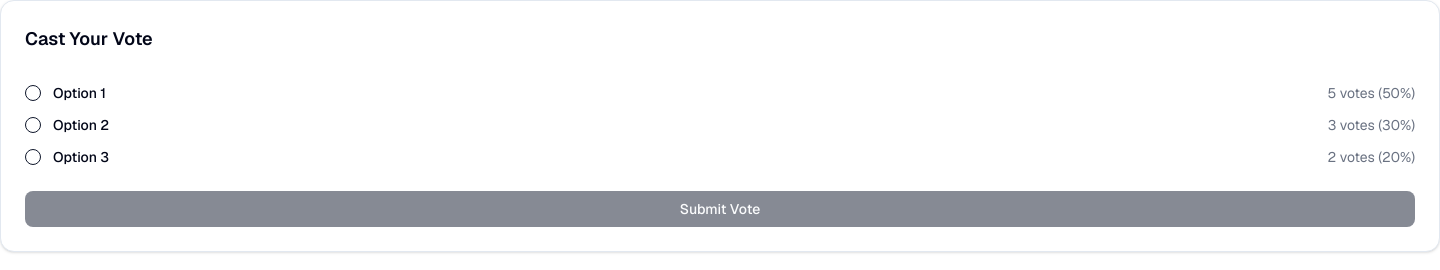
it: VotingForm › enables submit button when an option is selected
This screenshot has width=1440, height=270.
Step 1. Click the radio button named "Option 1" next to "Option 1" → (33, 93), box x1=25 y1=85 x2=41 y2=101
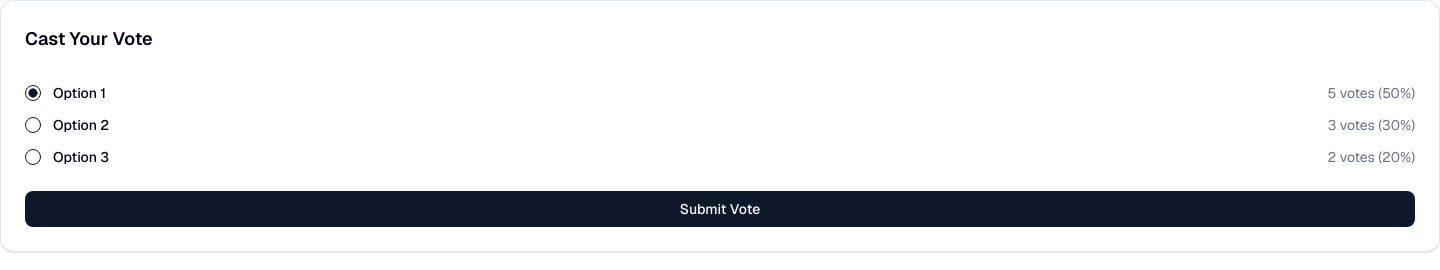
Check: the button "Submit Vote" is enabled, box x1=25 y1=191 x2=1415 y2=227
